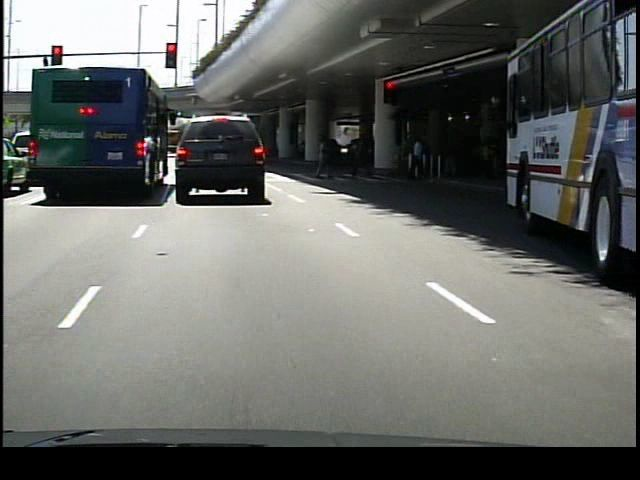person: (313, 131, 339, 180), (354, 129, 377, 184), (407, 135, 427, 185)
